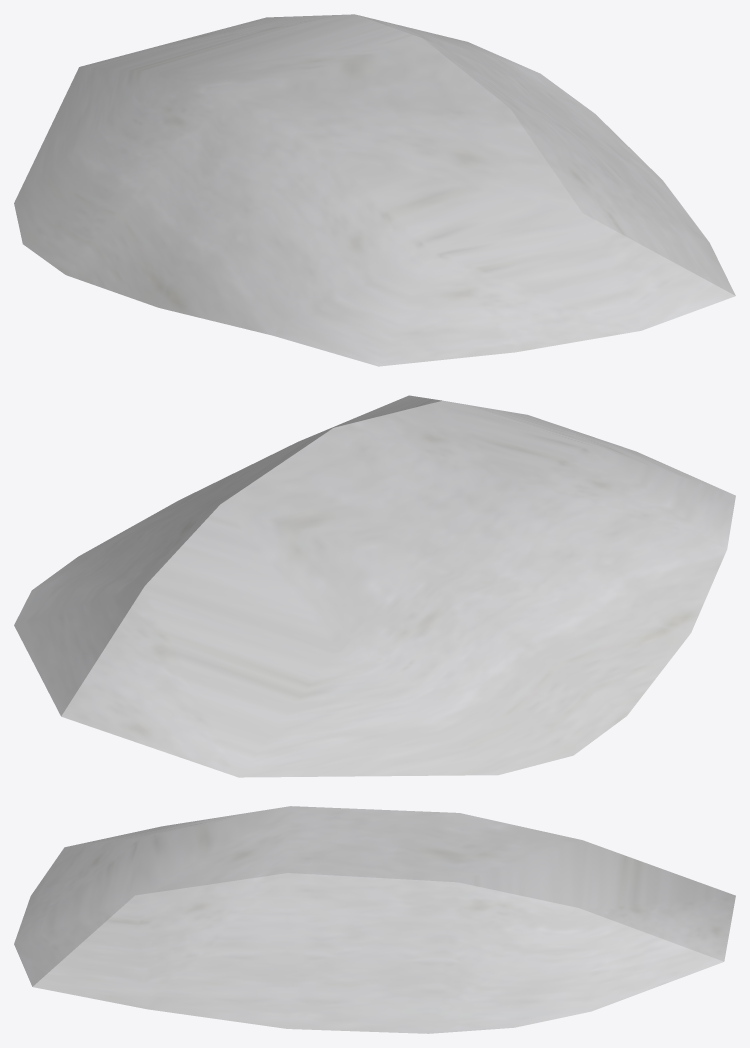
The model's file is SM_勺子样品.FBX.
3 views of the same model, one above another, from view 1: azimuth 30°, elevation 25°; view 2: azimuth 150°, elevation 25°; view 3: azimuth 270°, elevation 25° (orthographic). The views are drawn at different scales.
Parts seen in each view (by area): view 1: SM_勺子样品; view 2: SM_勺子样品; view 3: SM_勺子样品.
Part boxes in pixels (x1,y1,x2,y2): SM_勺子样品: [14, 14, 735, 366]; SM_勺子样品: [14, 395, 735, 777]; SM_勺子样品: [14, 806, 735, 1033].
Bounding box in the file's own units: 4.24 × 1.06 × 5.82.
